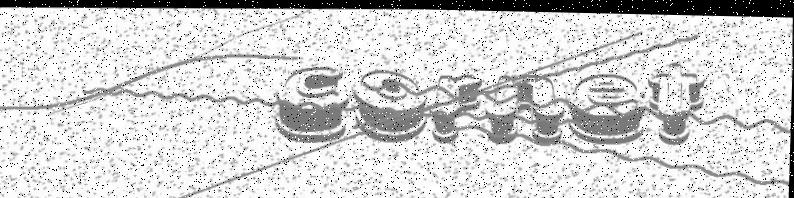c: (273, 62, 351, 143)
e: (566, 69, 649, 143)
n: (485, 71, 566, 143)
o: (349, 66, 429, 142)
r: (430, 70, 483, 143)
t: (645, 57, 707, 144)
